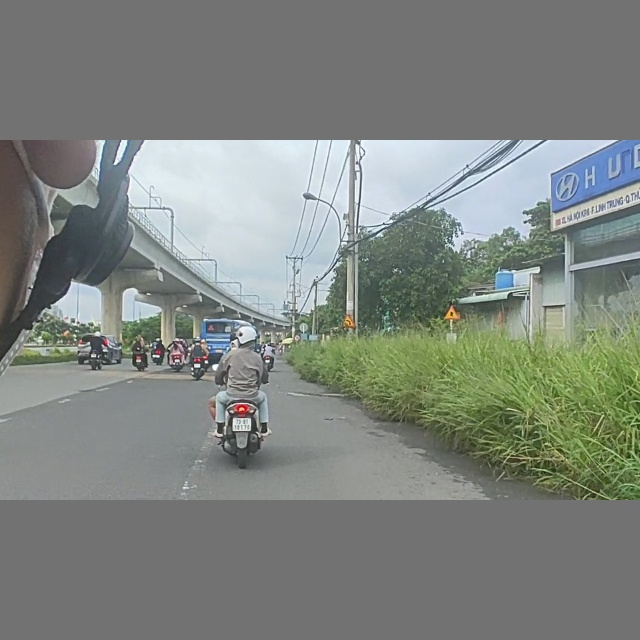P.123a: (292, 334, 301, 341)
W.201a: (341, 313, 358, 327)
W.207: (443, 304, 461, 320)
